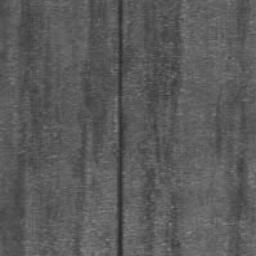Scratches: (115, 0, 123, 256)
